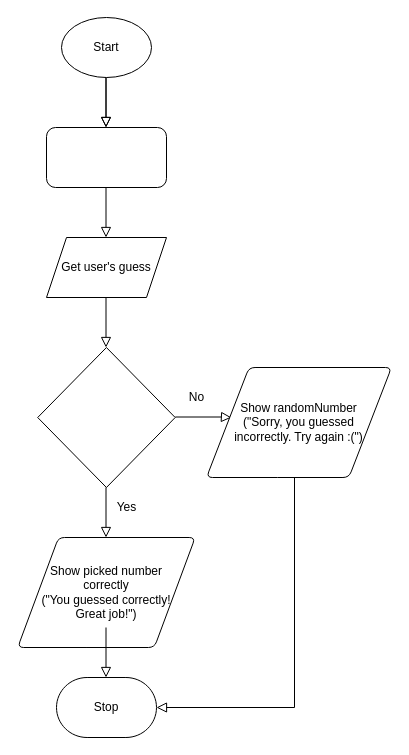
Image size: 409x755. Some labels were removed from this diagram. Each missing label, with the centre of its shape:
"Generate random number (from 1 to 6)" belongs at (x=106, y=157).
"If userNumber == randomNumber" belongs at (x=106, y=417).
